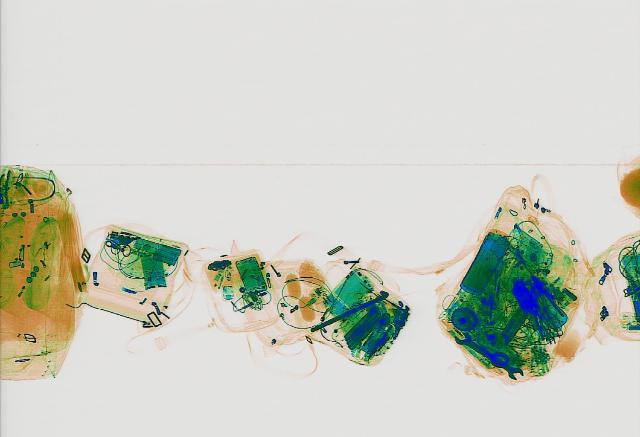Wrench: (448, 329, 528, 382)
